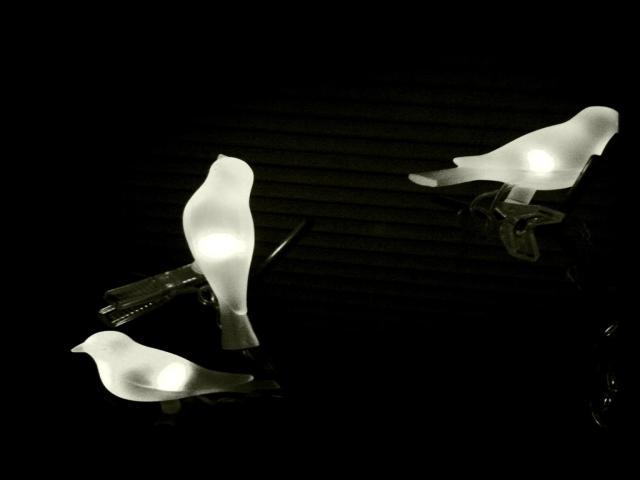Bird: (404, 108, 622, 207), (70, 330, 256, 425), (181, 152, 257, 352)
